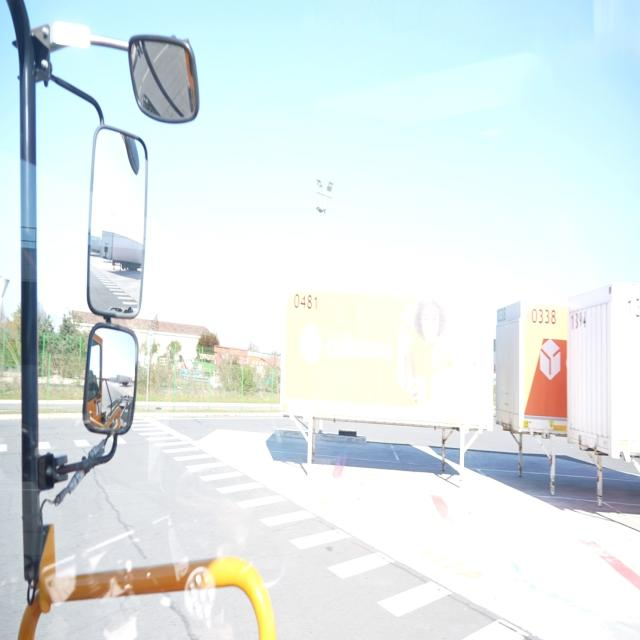Code: (527, 307, 559, 330), (290, 292, 321, 315), (566, 306, 592, 328)
